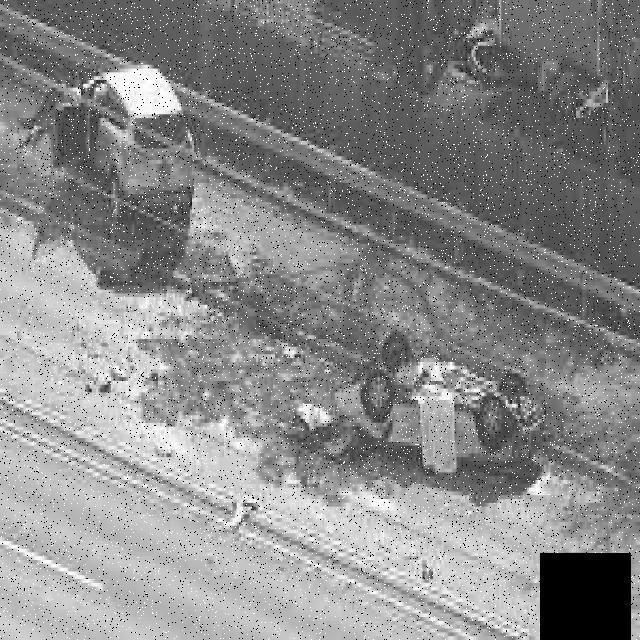accident: (333, 315, 546, 490)
vehicle: (51, 61, 203, 227)
